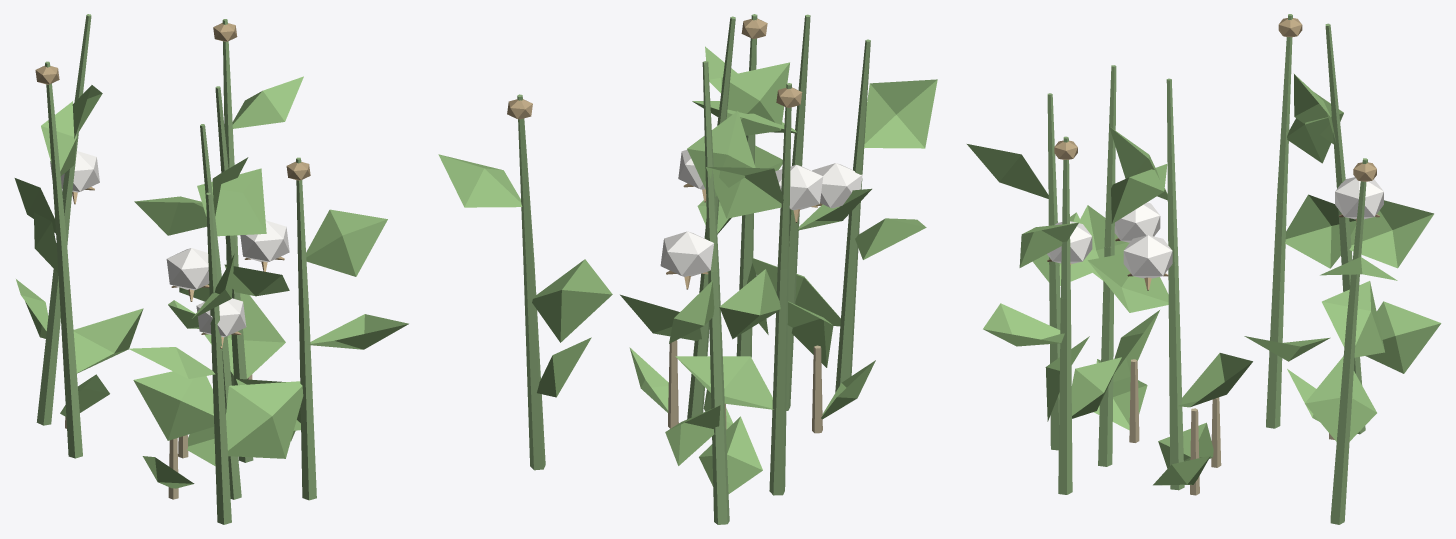
Rendered from plant-cotton-b_lod1.glb.
3 views of the same model, side by side, from view 1: azimuth 30°, elevation 25°; view 2: azimuth 150°, elevation 25°; view 3: azimuth 270°, elevation 25° (orthographic). The views are drawn at different scales.
Visible parts, largest first — view 1: plant-cotton-b_full_leafB, plant-cotton-b_full_stemGreen, plant-cotton-b_fruit_cottonWhite, plant-cotton-b_low_leafB, plant-cotton-b_fruit_cottonBract, plant-cotton-b_low_stemDry; view 2: plant-cotton-b_full_leafB, plant-cotton-b_full_stemGreen, plant-cotton-b_fruit_cottonWhite, plant-cotton-b_low_leafB, plant-cotton-b_low_stemDry, plant-cotton-b_fruit_cottonBract; view 3: plant-cotton-b_full_leafB, plant-cotton-b_full_stemGreen, plant-cotton-b_fruit_cottonWhite, plant-cotton-b_low_leafB, plant-cotton-b_low_stemDry, plant-cotton-b_fruit_cottonBract.
Part boxes in pixels (box(x1,y1,x2,y2)): plant-cotton-b_full_leafB: box(14, 76, 408, 458); plant-cotton-b_full_stemGreen: box(36, 14, 316, 524); plant-cotton-b_fruit_cottonWhite: box(50, 151, 289, 337); plant-cotton-b_low_leafB: box(60, 374, 300, 488); plant-cotton-b_fruit_cottonBract: box(35, 23, 310, 348); plant-cotton-b_low_stemDry: box(65, 374, 252, 499); plant-cotton-b_full_leafB: box(438, 46, 937, 465); plant-cotton-b_full_stemGreen: box(517, 14, 870, 524); plant-cotton-b_fruit_cottonWhite: box(660, 150, 862, 276); plant-cotton-b_low_leafB: box(629, 347, 875, 493); plant-cotton-b_low_stemDry: box(668, 340, 822, 433); plant-cotton-b_fruit_cottonBract: box(507, 18, 822, 289); plant-cotton-b_full_leafB: box(967, 74, 1441, 441); plant-cotton-b_full_stemGreen: box(1047, 14, 1367, 524); plant-cotton-b_fruit_cottonWhite: box(1047, 177, 1383, 278); plant-cotton-b_low_leafB: box(1093, 359, 1319, 485); plant-cotton-b_low_stemDry: box(1129, 359, 1334, 495); plant-cotton-b_fruit_cottonBract: box(1047, 18, 1379, 290).
Bounding box in the file's own units: 0.8047 × 1 × 1.02.
